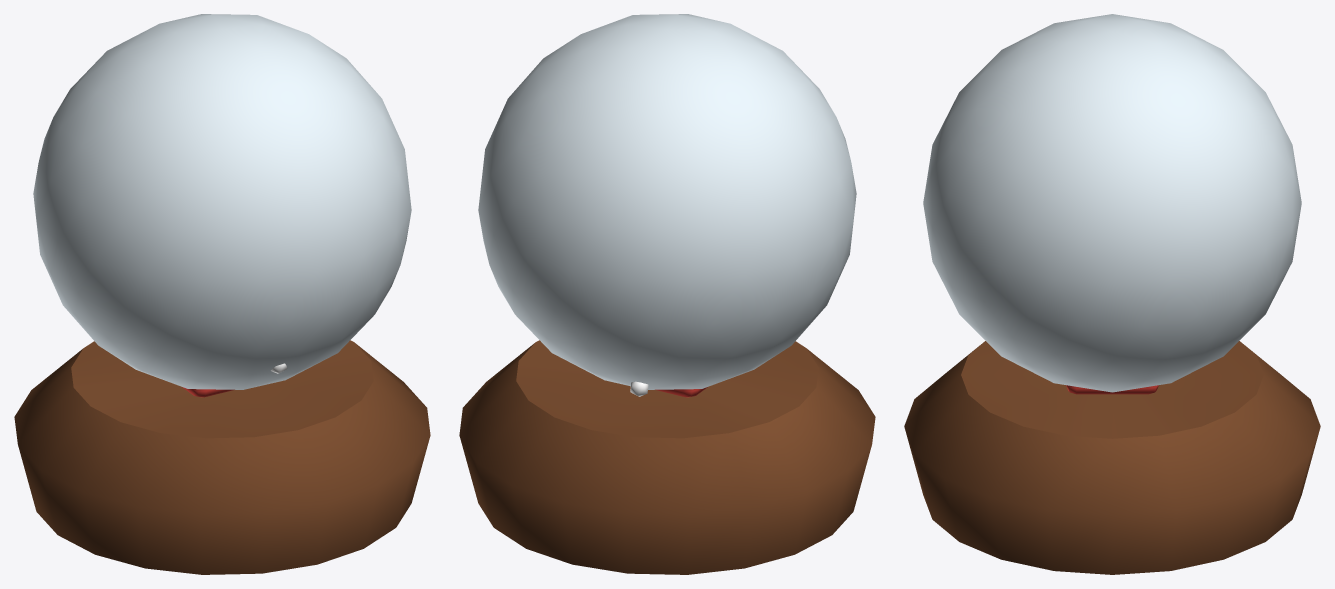
File: furn_snow_globe.glb
3 views of the same model, side by side, from view 1: azimuth 30°, elevation 25°; view 2: azimuth 150°, elevation 25°; view 3: azimuth 270°, elevation 25° (orthographic).
Parts seen in each view (by area): view 1: furn_snow_globe_clear, furn_snow_globe_main; view 2: furn_snow_globe_clear, furn_snow_globe_main; view 3: furn_snow_globe_clear, furn_snow_globe_main.
Boxes of the visible parts, x1,y1,x2,y2 form: furn_snow_globe_clear: (33,14,411,389); furn_snow_globe_main: (14,340,430,574); furn_snow_globe_clear: (478,14,856,389); furn_snow_globe_main: (459,340,875,574); furn_snow_globe_clear: (923,14,1301,392); furn_snow_globe_main: (904,341,1320,574).
Size of the model in its own units: 0.22 by 0.27 by 0.22.
